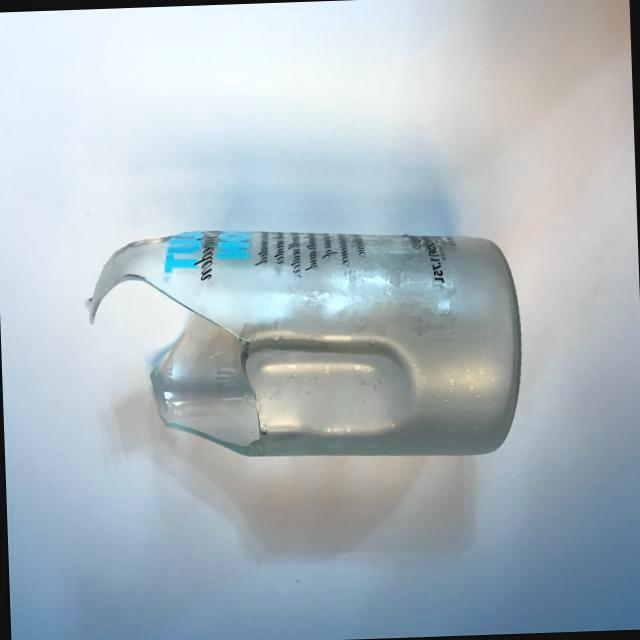glass: (70, 207, 553, 490)
